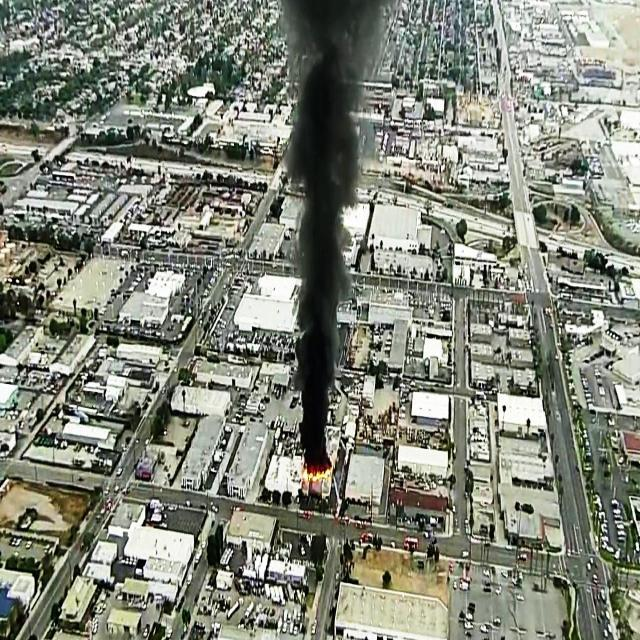Fire: (301, 466, 335, 486)
Smoke: (280, 0, 385, 463)
